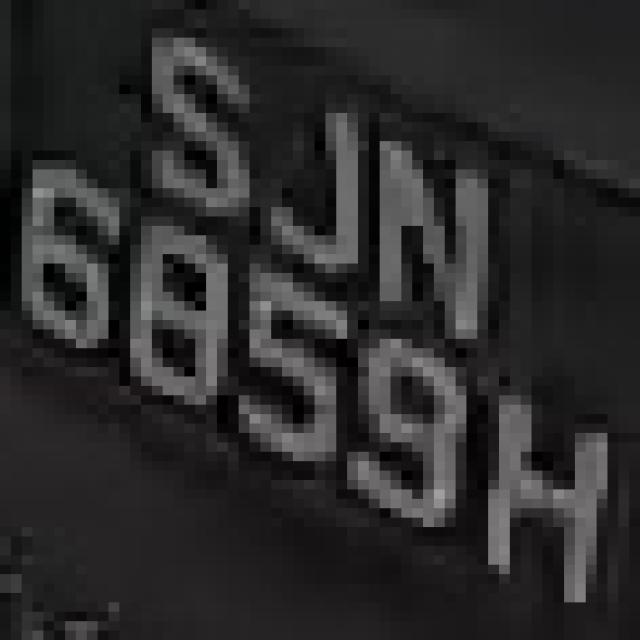5: (228, 226, 358, 489)
6: (11, 150, 119, 377)
8: (86, 198, 238, 452)
9: (314, 292, 466, 555)
H: (456, 376, 629, 612)
J: (250, 66, 380, 282)
N: (369, 103, 499, 330)
S: (120, 19, 272, 254)
